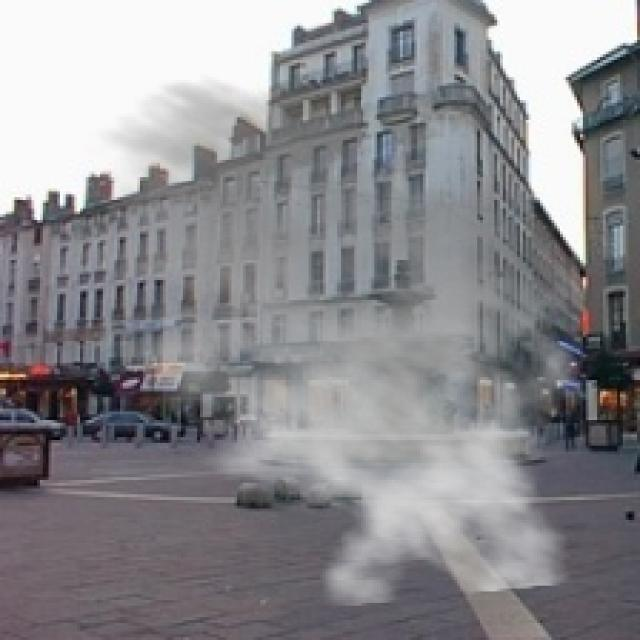Smoke: (46, 74, 608, 609)
